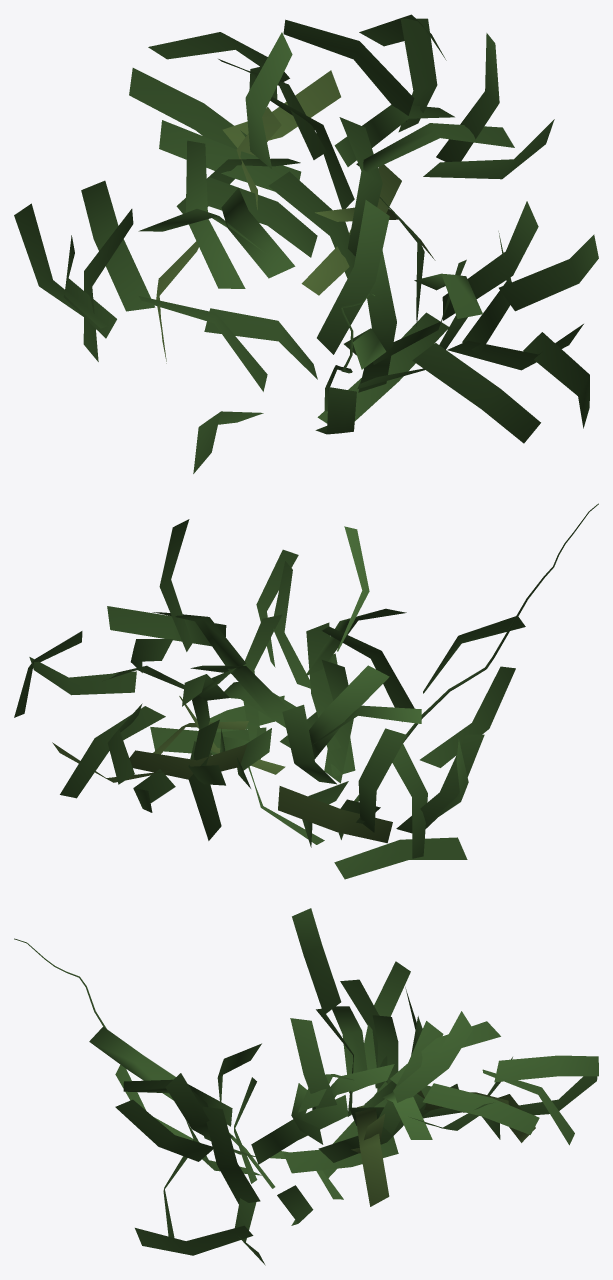
Rendered from arbusto_3_muito_longe.glb.
The picture shows the model from 3 angles, top to bottom: view 1: azimuth 30°, elevation 25°; view 2: azimuth 150°, elevation 25°; view 3: azimuth 270°, elevation 25°; orthographic projection. The views are drawn at different scales.
Parts seen in each view (by area): view 1: arbusto_3_muito_longe; view 2: arbusto_3_muito_longe; view 3: arbusto_3_muito_longe.
Boxes of the visible parts, bbox=[...] form: arbusto_3_muito_longe: bbox=[14, 14, 598, 473]; arbusto_3_muito_longe: bbox=[14, 503, 598, 879]; arbusto_3_muito_longe: bbox=[14, 908, 598, 1265].
Bounding box in the file's own units: 0.6991 × 0.5614 × 0.9885.
